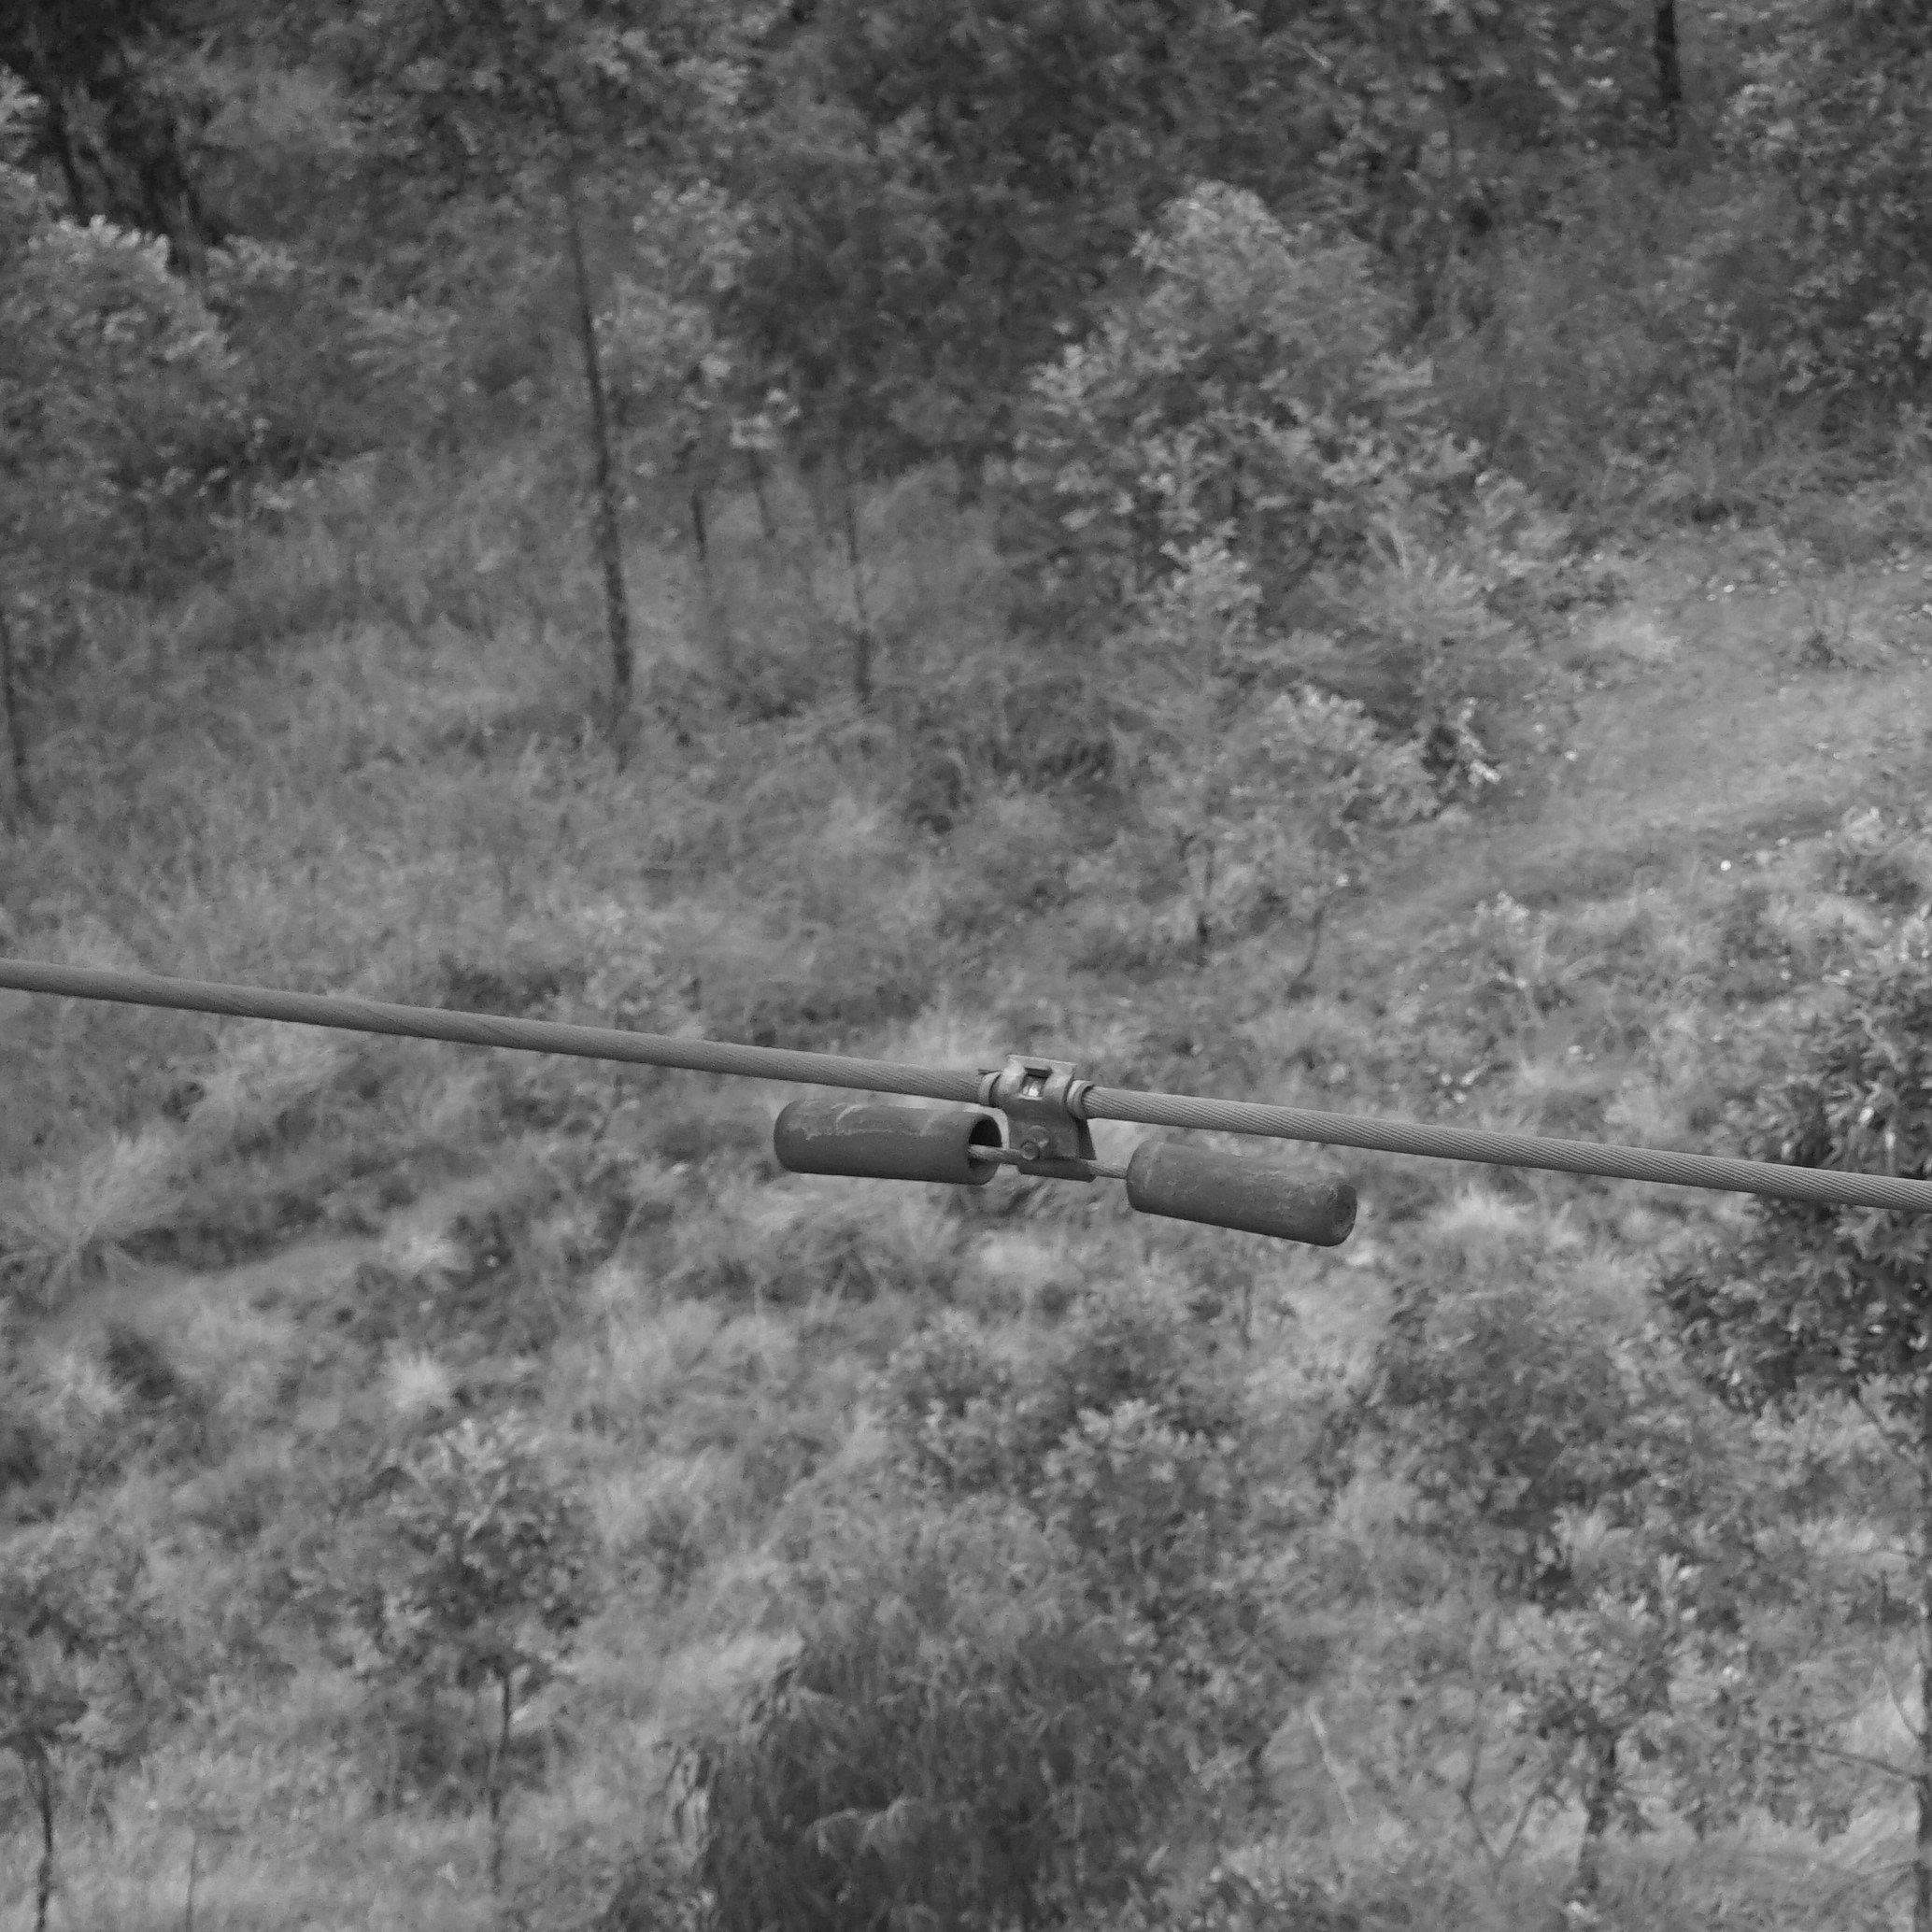Shockproof hammer: (764, 1026, 1376, 1263)
